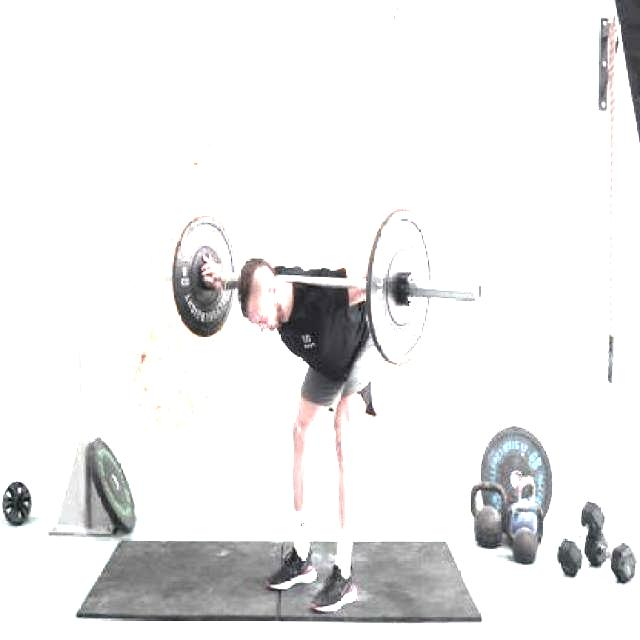barbell: (364, 200, 440, 372)
